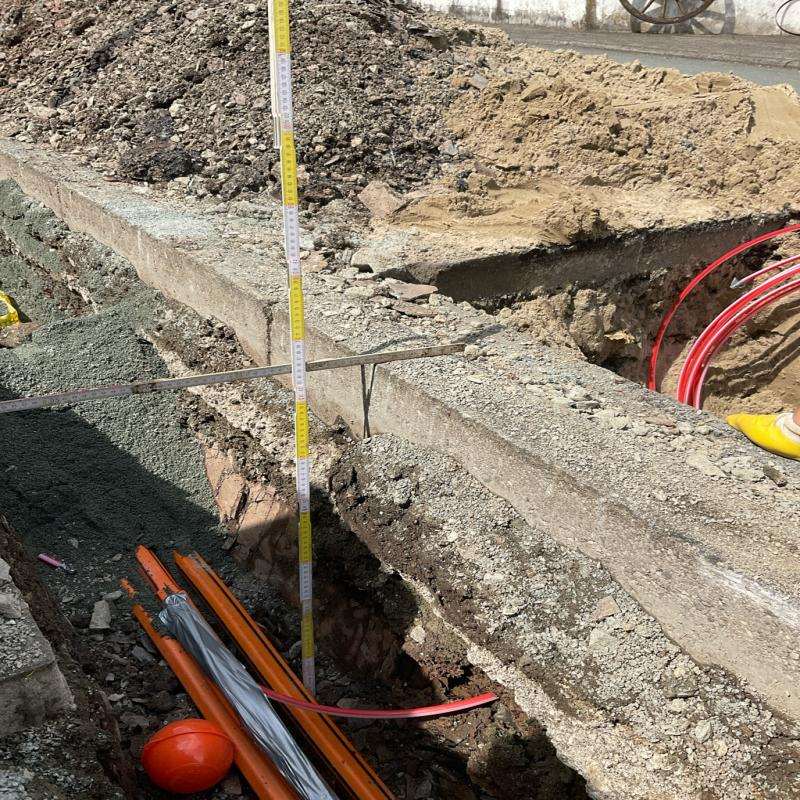Kugelmarker: (140, 719, 235, 794)
Orang-Speednetrohrchen: (170, 551, 390, 800), (132, 548, 334, 800)
